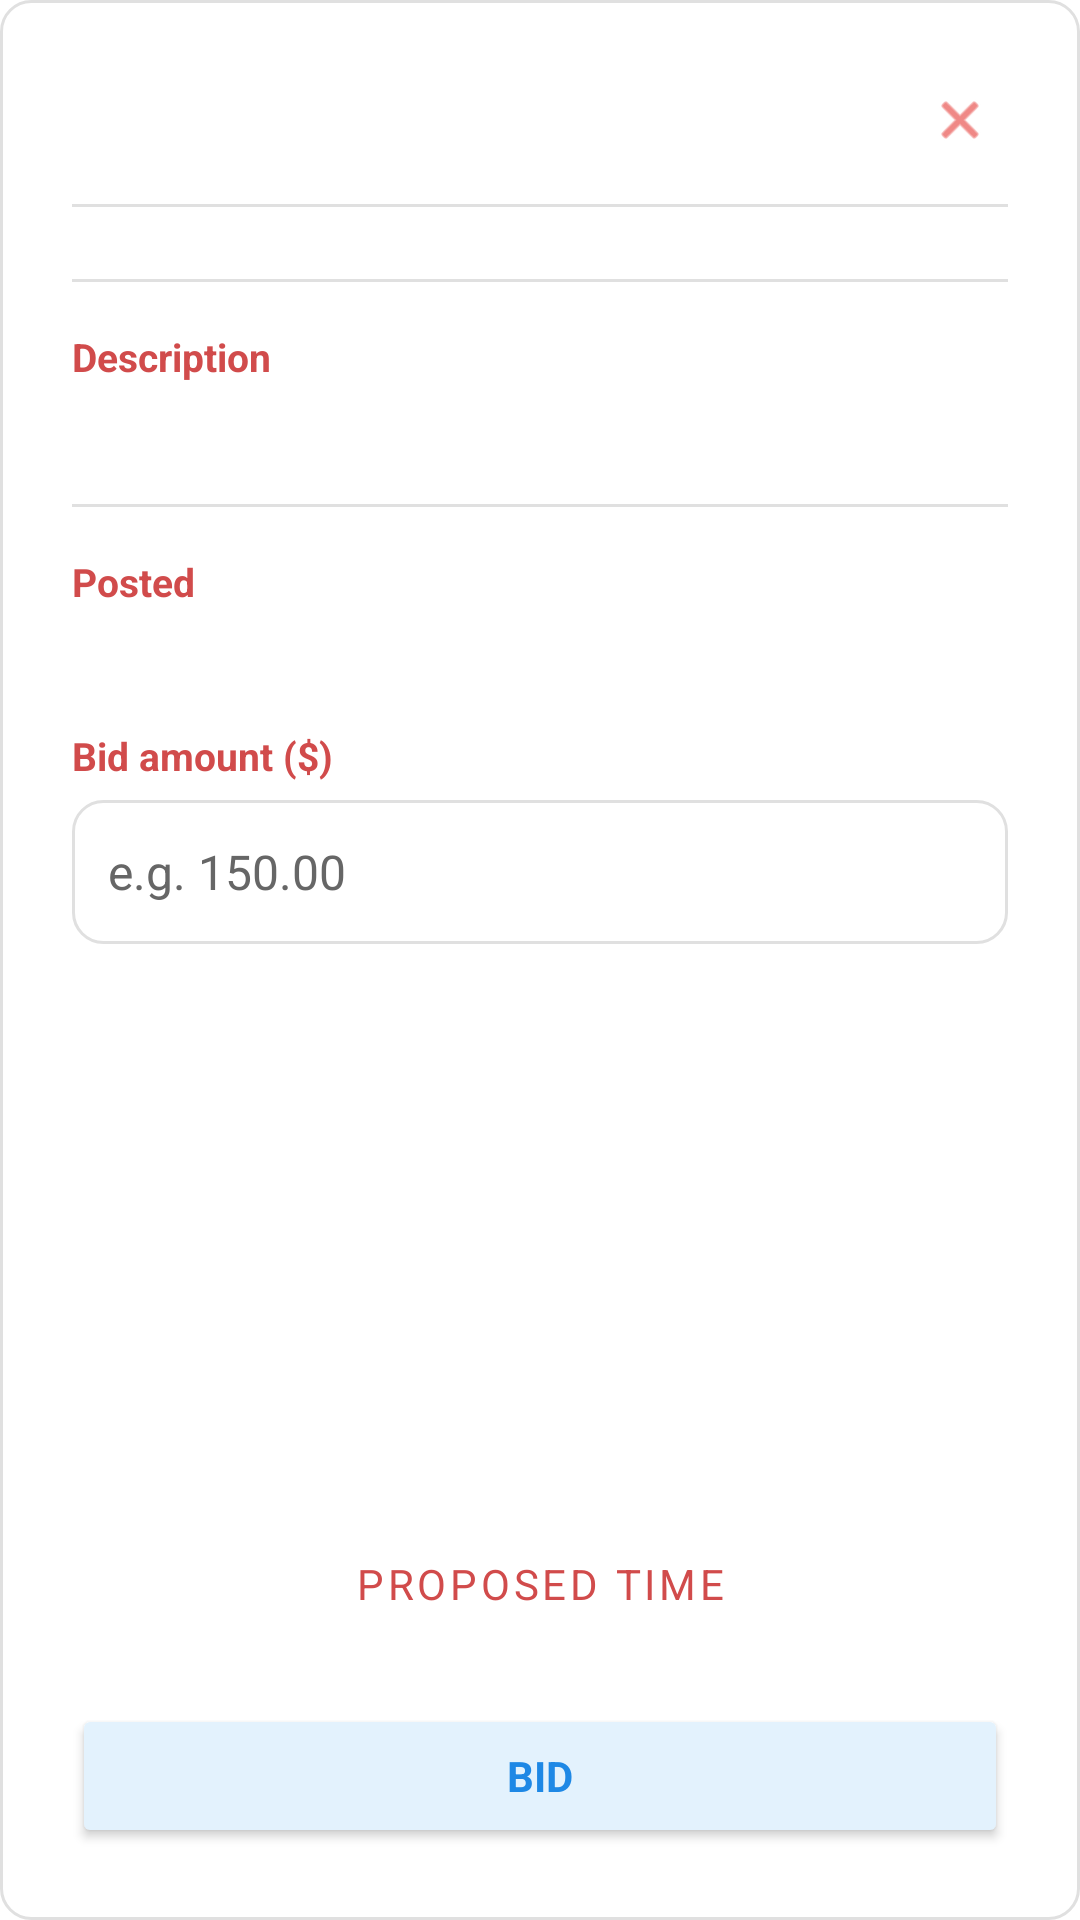

Named icons in this screenshot (1080*1920) and their bounding boxes, (x1, y1, x2, y2):
Close: (941, 101, 979, 139)
